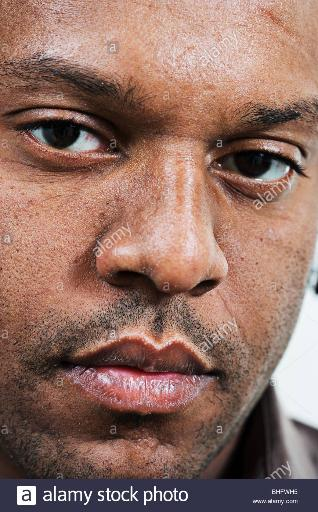left_eye: (214, 143, 309, 187)
left_lip_corner: (202, 360, 225, 388)
right_eye: (11, 112, 116, 159)
right_lip_corner: (56, 343, 93, 381)
